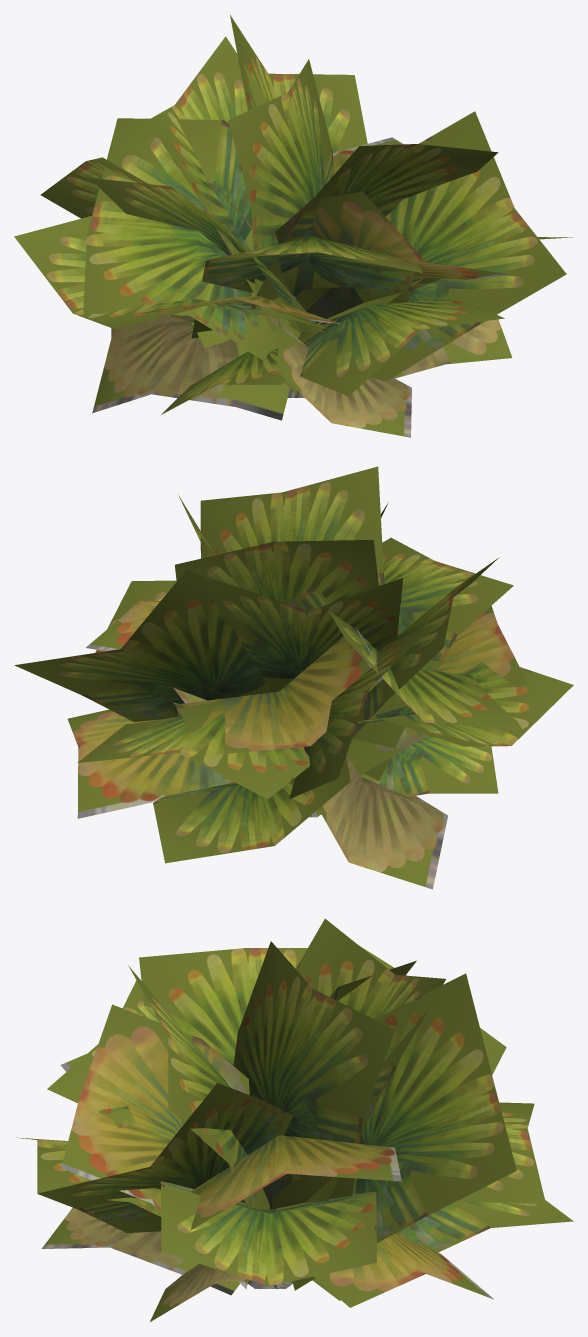
File: Dwarf_Palmetto_Palm1_afsTREE_xlprl.fbx
3 views of the same model, one above another, from view 1: azimuth 30°, elevation 25°; view 2: azimuth 150°, elevation 25°; view 3: azimuth 270°, elevation 25° (orthographic). The views are drawn at different scales.
Parts seen in each view (by area): view 1: leaf.019_xw01_xt01_xp08, leaf.020_xw01_xt01_xp08, leaf.011_xw02_xt02_xp10, leaf.010_xw00_xt01, leaf.021_xw01_xt01_xp07, leaf.018_xw01_xt02_xp04, leaf.016_xw01_xt02, leaf.008_xw02_xt01, leaf.015_xw02_xt02_xp03, leaf.017_xw02_xt02, leaf.014_xw01_xt01_xp01, leaf.004_xw02_xt02_xp03 (+5 smaller); view 2: leaf.004_xw02_xt02_xp03, leaf.016_xw01_xt02, leaf.008_xw02_xt01, leaf.001_xw01_xt01_xp09, leaf.006_xw01_xt01_xp07, leaf.010_xw00_xt01, leaf.011_xw02_xt02_xp10, leaf.018_xw01_xt02_xp04, leaf.002_xw00_xt01, leaf.003_xw02_xt02_xp06, leaf.019_xw01_xt01_xp08, leaf.017_xw02_xt02 (+6 smaller); view 3: leaf.004_xw02_xt02_xp03, leaf.011_xw02_xt02_xp10, leaf.005_xw01_xt01_xp04, leaf.015_xw02_xt02_xp03, leaf.020_xw01_xt01_xp08, leaf.012_xw01_xt02, leaf.007_xw01_xt01_xp02, leaf.008_xw02_xt01, leaf.016_xw01_xt02, leaf.002_xw00_xt01, leaf.001_xw01_xt01_xp09, leaf.014_xw01_xt01_xp01 (+6 smaller).
Boxes of the visible parts, x1,y1,x2,y2 form: leaf.019_xw01_xt01_xp08: (83, 118, 299, 395); leaf.020_xw01_xt01_xp08: (370, 111, 566, 381); leaf.011_xw02_xt02_xp10: (228, 59, 333, 334); leaf.010_xw00_xt01: (92, 315, 289, 420); leaf.021_xw01_xt01_xp07: (228, 299, 504, 396); leaf.018_xw01_xt02_xp04: (191, 236, 422, 338); leaf.016_xw01_xt02: (251, 144, 498, 308); leaf.008_xw02_xt01: (147, 36, 290, 332); leaf.015_xw02_xt02_xp03: (275, 191, 509, 333); leaf.017_xw02_xt02: (14, 216, 326, 329); leaf.014_xw01_xt01_xp01: (267, 316, 411, 437); leaf.004_xw02_xt02_xp03: (230, 15, 367, 153); leaf.004_xw02_xt02_xp03: (14, 569, 271, 722); leaf.016_xw01_xt02: (200, 466, 384, 585); leaf.008_xw02_xt01: (208, 578, 403, 692); leaf.001_xw01_xt01_xp09: (153, 757, 350, 863); leaf.006_xw01_xt01_xp07: (175, 630, 384, 753); leaf.010_xw00_xt01: (308, 754, 447, 889); leaf.011_xw02_xt02_xp10: (175, 540, 378, 603); leaf.018_xw01_xt02_xp04: (352, 537, 513, 780); leaf.002_xw00_xt01: (67, 709, 234, 818); leaf.003_xw02_xt02_xp06: (77, 713, 385, 799); leaf.019_xw01_xt01_xp08: (286, 587, 522, 730); leaf.017_xw02_xt02: (358, 662, 573, 746); leaf.004_xw02_xt02_xp03: (292, 973, 516, 1290); leaf.011_xw02_xt02_xp10: (233, 941, 395, 1209); leaf.005_xw01_xt01_xp04: (160, 1181, 376, 1285); leaf.015_xw02_xt02_xp03: (61, 1004, 249, 1289); leaf.020_xw01_xt01_xp08: (37, 1083, 293, 1232); leaf.012_xw01_xt02: (139, 948, 307, 1065); leaf.007_xw01_xt01_xp02: (159, 1135, 401, 1250); leaf.008_xw02_xt01: (296, 918, 445, 1202); leaf.016_xw01_xt02: (128, 965, 270, 1210); leaf.002_xw00_xt01: (314, 1233, 493, 1307); leaf.001_xw01_xt01_xp09: (312, 1200, 573, 1300); leaf.014_xw01_xt01_xp01: (41, 1207, 240, 1295).
Bounding box in the file's own units: 2.53 × 1.68 × 2.58.
